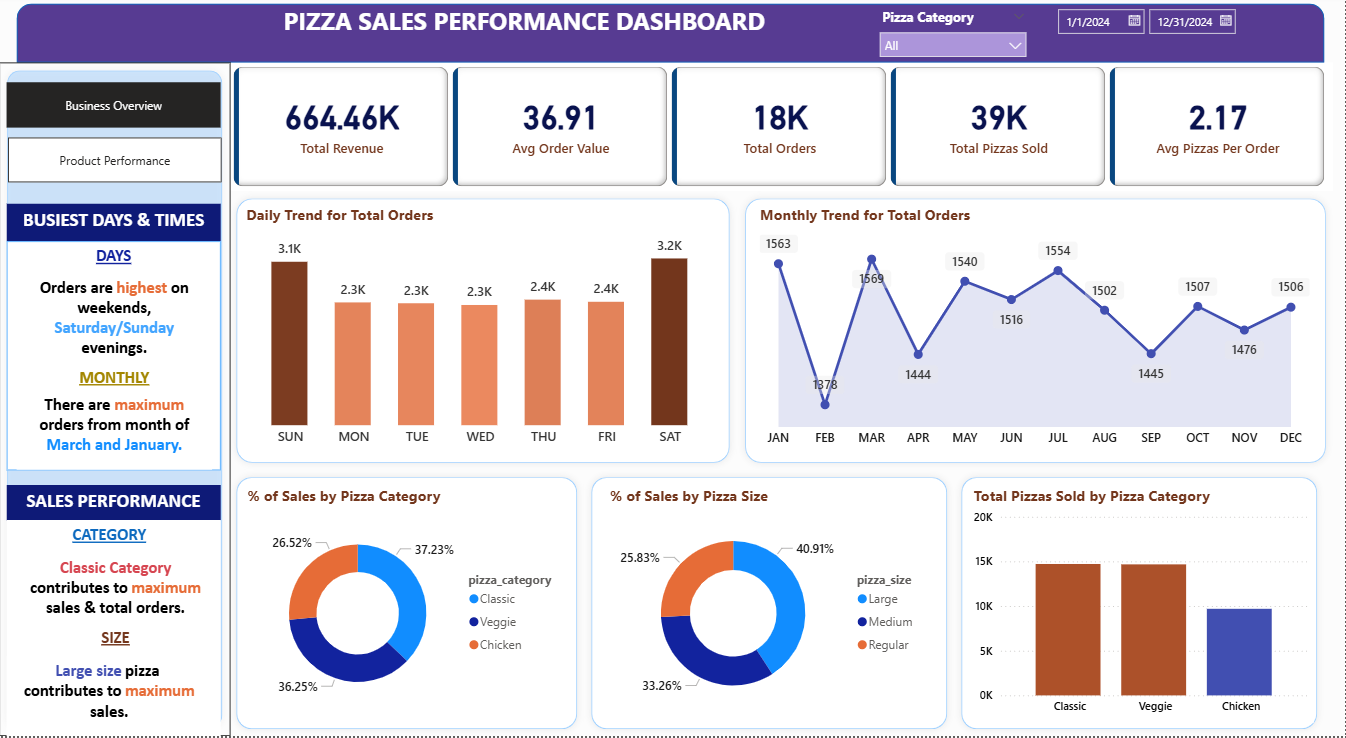

This screenshot's page, from the dashboard's own definition file:
{"tool":"powerbi","page":{"name":"Business Overview","canvas":[1500,820],"ordinal":0},"visuals":[{"type":"cardVisual","fields":{"Data":["Pizza_Sales.Total Revenue","Pizza_Sales.Avg Order Value","Pizza_Sales.Total Orders","Pizza_Sales.Total Pizzas Sold","Pizza_Sales.Avg Pizzas Per Order"]},"box":[257.6,69.6,1229.7,143.4],"z":0},{"type":"shape","box":[20.9,4.2,1456.7,65.5],"z":1000},{"type":"textbox","box":[247.9,0,676.8,52.9],"z":2000},{"type":"shape","box":[257.6,213.1,565.4,310.6],"z":4000},{"type":"columnChart","title":"Daily Trend for Total Orders","fields":{"Category":["Pizza_Sales.Order Day"],"Y":["Pizza_Sales.Total Orders"]},"box":[271.6,227,532,279.9],"z":5000},{"type":"shape","box":[1.4,69.6,257.6,750.6],"z":6000},{"type":"shape","box":[824.5,213.1,662.9,310.6],"z":7000},{"type":"areaChart","title":"Monthly Trend for Total Orders","fields":{"Category":["Pizza_Sales.Order Month"],"Y":["Pizza_Sales.Total Orders"]},"box":[844,227,622.5,279.9],"z":8000},{"type":"shape","box":[257.6,523.6,395.5,296.6],"z":9000},{"type":"shape","box":[653.2,523.6,412.2,296.6],"z":10000},{"type":"shape","box":[1065.4,523.6,412.2,296.6],"z":11000},{"type":"donutChart","title":"% of Sales by Pizza Category","fields":{"Category":["Pizza_Sales.pizza_category"],"Y":["Pizza_Sales.Total Revenue"]},"box":[273,540.4,364.9,264.6],"z":12000},{"type":"donutChart","title":"% of Sales by Pizza Size","fields":{"Y":["Pizza_Sales.Total Revenue"],"Category":["Pizza_Sales.pizza_size"]},"box":[676.8,540.4,364.9,264.6],"z":13000},{"type":"clusteredColumnChart","title":"Total Pizzas Sold by Pizza Category","fields":{"Category":["Pizza_Sales.pizza_category"],"Y":["Pizza_Sales.Total Pizzas Sold"]},"box":[1082.1,540.4,384.4,264.6],"z":14000},{"type":"textbox","box":[9.7,227,238.1,41.8],"z":15000},{"type":"textbox","box":[9.7,268.8,238.1,254.9],"z":16000},{"type":"textbox","box":[75.2,268.8,107.2,34.8],"z":17000},{"type":"textbox","box":[20.9,303.6,217.3,100.3],"z":18000},{"type":"textbox","box":[55.7,403.9,147.6,41.8],"z":19000},{"type":"textbox","box":[20.9,434.5,217.3,89.1],"z":20000},{"type":"textbox","box":[9.7,540.4,238.1,39],"z":21000},{"type":"textbox","box":[9.7,579.4,238.1,240.9],"z":22000},{"type":"textbox","box":[69.6,579.4,108.6,36.2],"z":23000},{"type":"textbox","box":[22.3,615.6,217.3,78],"z":24000},{"type":"textbox","box":[22.3,693.5,217.3,43.2],"z":25000},{"type":"textbox","box":[9.7,731.2,228.4,89.1],"z":26000},{"type":"slicer","fields":{"Values":["Pizza_Sales.pizza_category"]},"box":[972.1,4.2,183.8,62.7],"z":27000},{"type":"slicer","fields":{"Values":["Pizza_Sales.order_date"]},"box":[1168.5,0,249.3,69.6],"z":28000},{"type":"pageNavigator","box":[9.7,91.9,238.1,50.1],"z":29000},{"type":"pageNavigator","box":[11.1,153.2,238.1,50.1],"z":30000}]}

Visuals, with their boxes in screenshot pixels (x1, y1, x2, y2), scaled from the page's 1500x820 canvas onto the 1346x738 screenshot:
cardVisual - Pizza_Sales.Total Revenue x Pizza_Sales.Avg Order Value: bbox=(231, 63, 1335, 192)
shape: bbox=(19, 4, 1326, 63)
textbox: bbox=(222, 0, 830, 48)
shape: bbox=(231, 192, 739, 471)
"Daily Trend for Total Orders" columnChart: bbox=(244, 204, 721, 456)
shape: bbox=(1, 63, 232, 737)
shape: bbox=(740, 192, 1335, 471)
"Monthly Trend for Total Orders" areaChart: bbox=(757, 204, 1316, 456)
shape: bbox=(231, 471, 586, 737)
shape: bbox=(586, 471, 956, 737)
shape: bbox=(956, 471, 1326, 737)
"% of Sales by Pizza Category" donutChart: bbox=(245, 486, 572, 724)
"% of Sales by Pizza Size" donutChart: bbox=(607, 486, 935, 724)
"Total Pizzas Sold by Pizza Category" clusteredColumnChart: bbox=(971, 486, 1316, 724)
textbox: bbox=(9, 204, 222, 242)
textbox: bbox=(9, 242, 222, 471)
textbox: bbox=(67, 242, 164, 273)
textbox: bbox=(19, 273, 214, 364)
textbox: bbox=(50, 364, 182, 401)
textbox: bbox=(19, 391, 214, 471)
textbox: bbox=(9, 486, 222, 521)
textbox: bbox=(9, 521, 222, 737)
textbox: bbox=(62, 521, 160, 554)
textbox: bbox=(20, 554, 215, 624)
textbox: bbox=(20, 624, 215, 663)
textbox: bbox=(9, 658, 214, 737)
slicer - Pizza_Sales.pizza_category: bbox=(872, 4, 1037, 60)
slicer - Pizza_Sales.order_date: bbox=(1049, 0, 1272, 63)
pageNavigator: bbox=(9, 83, 222, 128)
pageNavigator: bbox=(10, 138, 224, 183)
